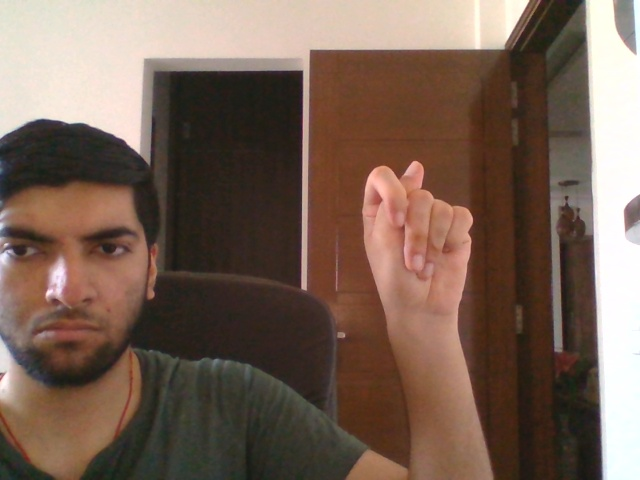LetterT: (358, 158, 476, 315)
